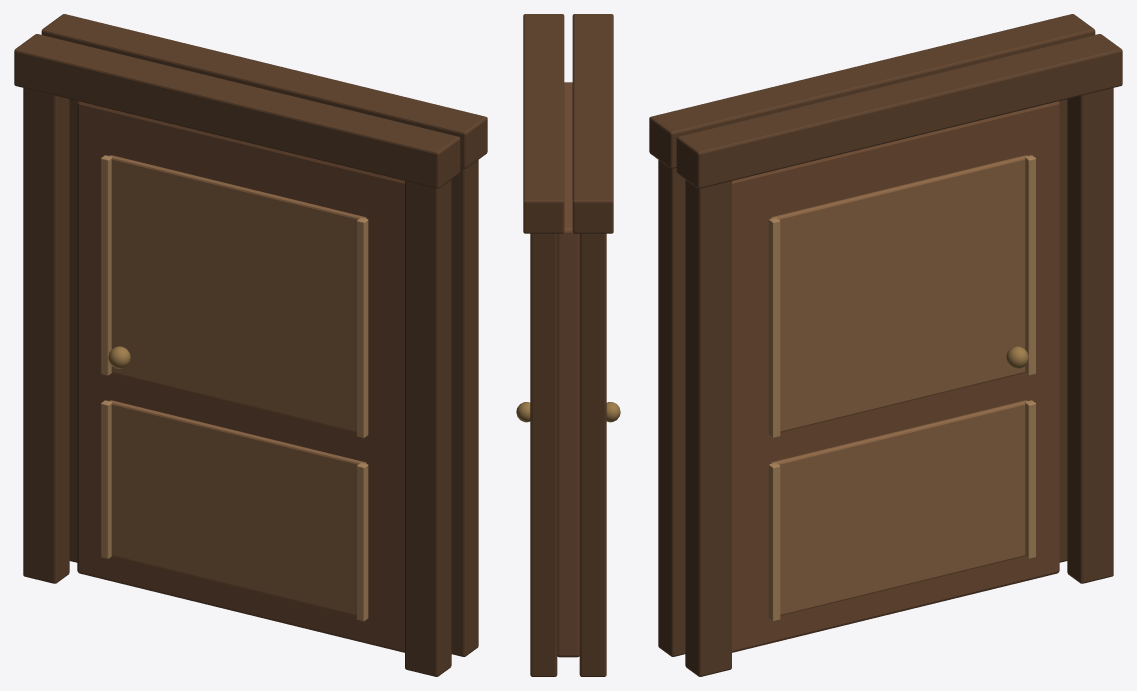
Rendered from SM_CP_CrimeDoor.fbx.
3 views of the same model, side by side, from view 1: azimuth 30°, elevation 25°; view 2: azimuth 150°, elevation 25°; view 3: azimuth 270°, elevation 25° (orthographic). The views are drawn at different scales.
Visible parts, largest first — view 1: SM_CP_CrimeDoor; view 2: SM_CP_CrimeDoor; view 3: SM_CP_CrimeDoor.
Part boxes in pixels (bbox=[...]): SM_CP_CrimeDoor: bbox=[14, 14, 487, 676]; SM_CP_CrimeDoor: bbox=[516, 14, 620, 676]; SM_CP_CrimeDoor: bbox=[649, 14, 1122, 676].
Size of what is drawn, in the model's own units: 145 by 208 by 257.
